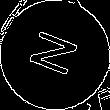N_E: (24, 27, 86, 83)
